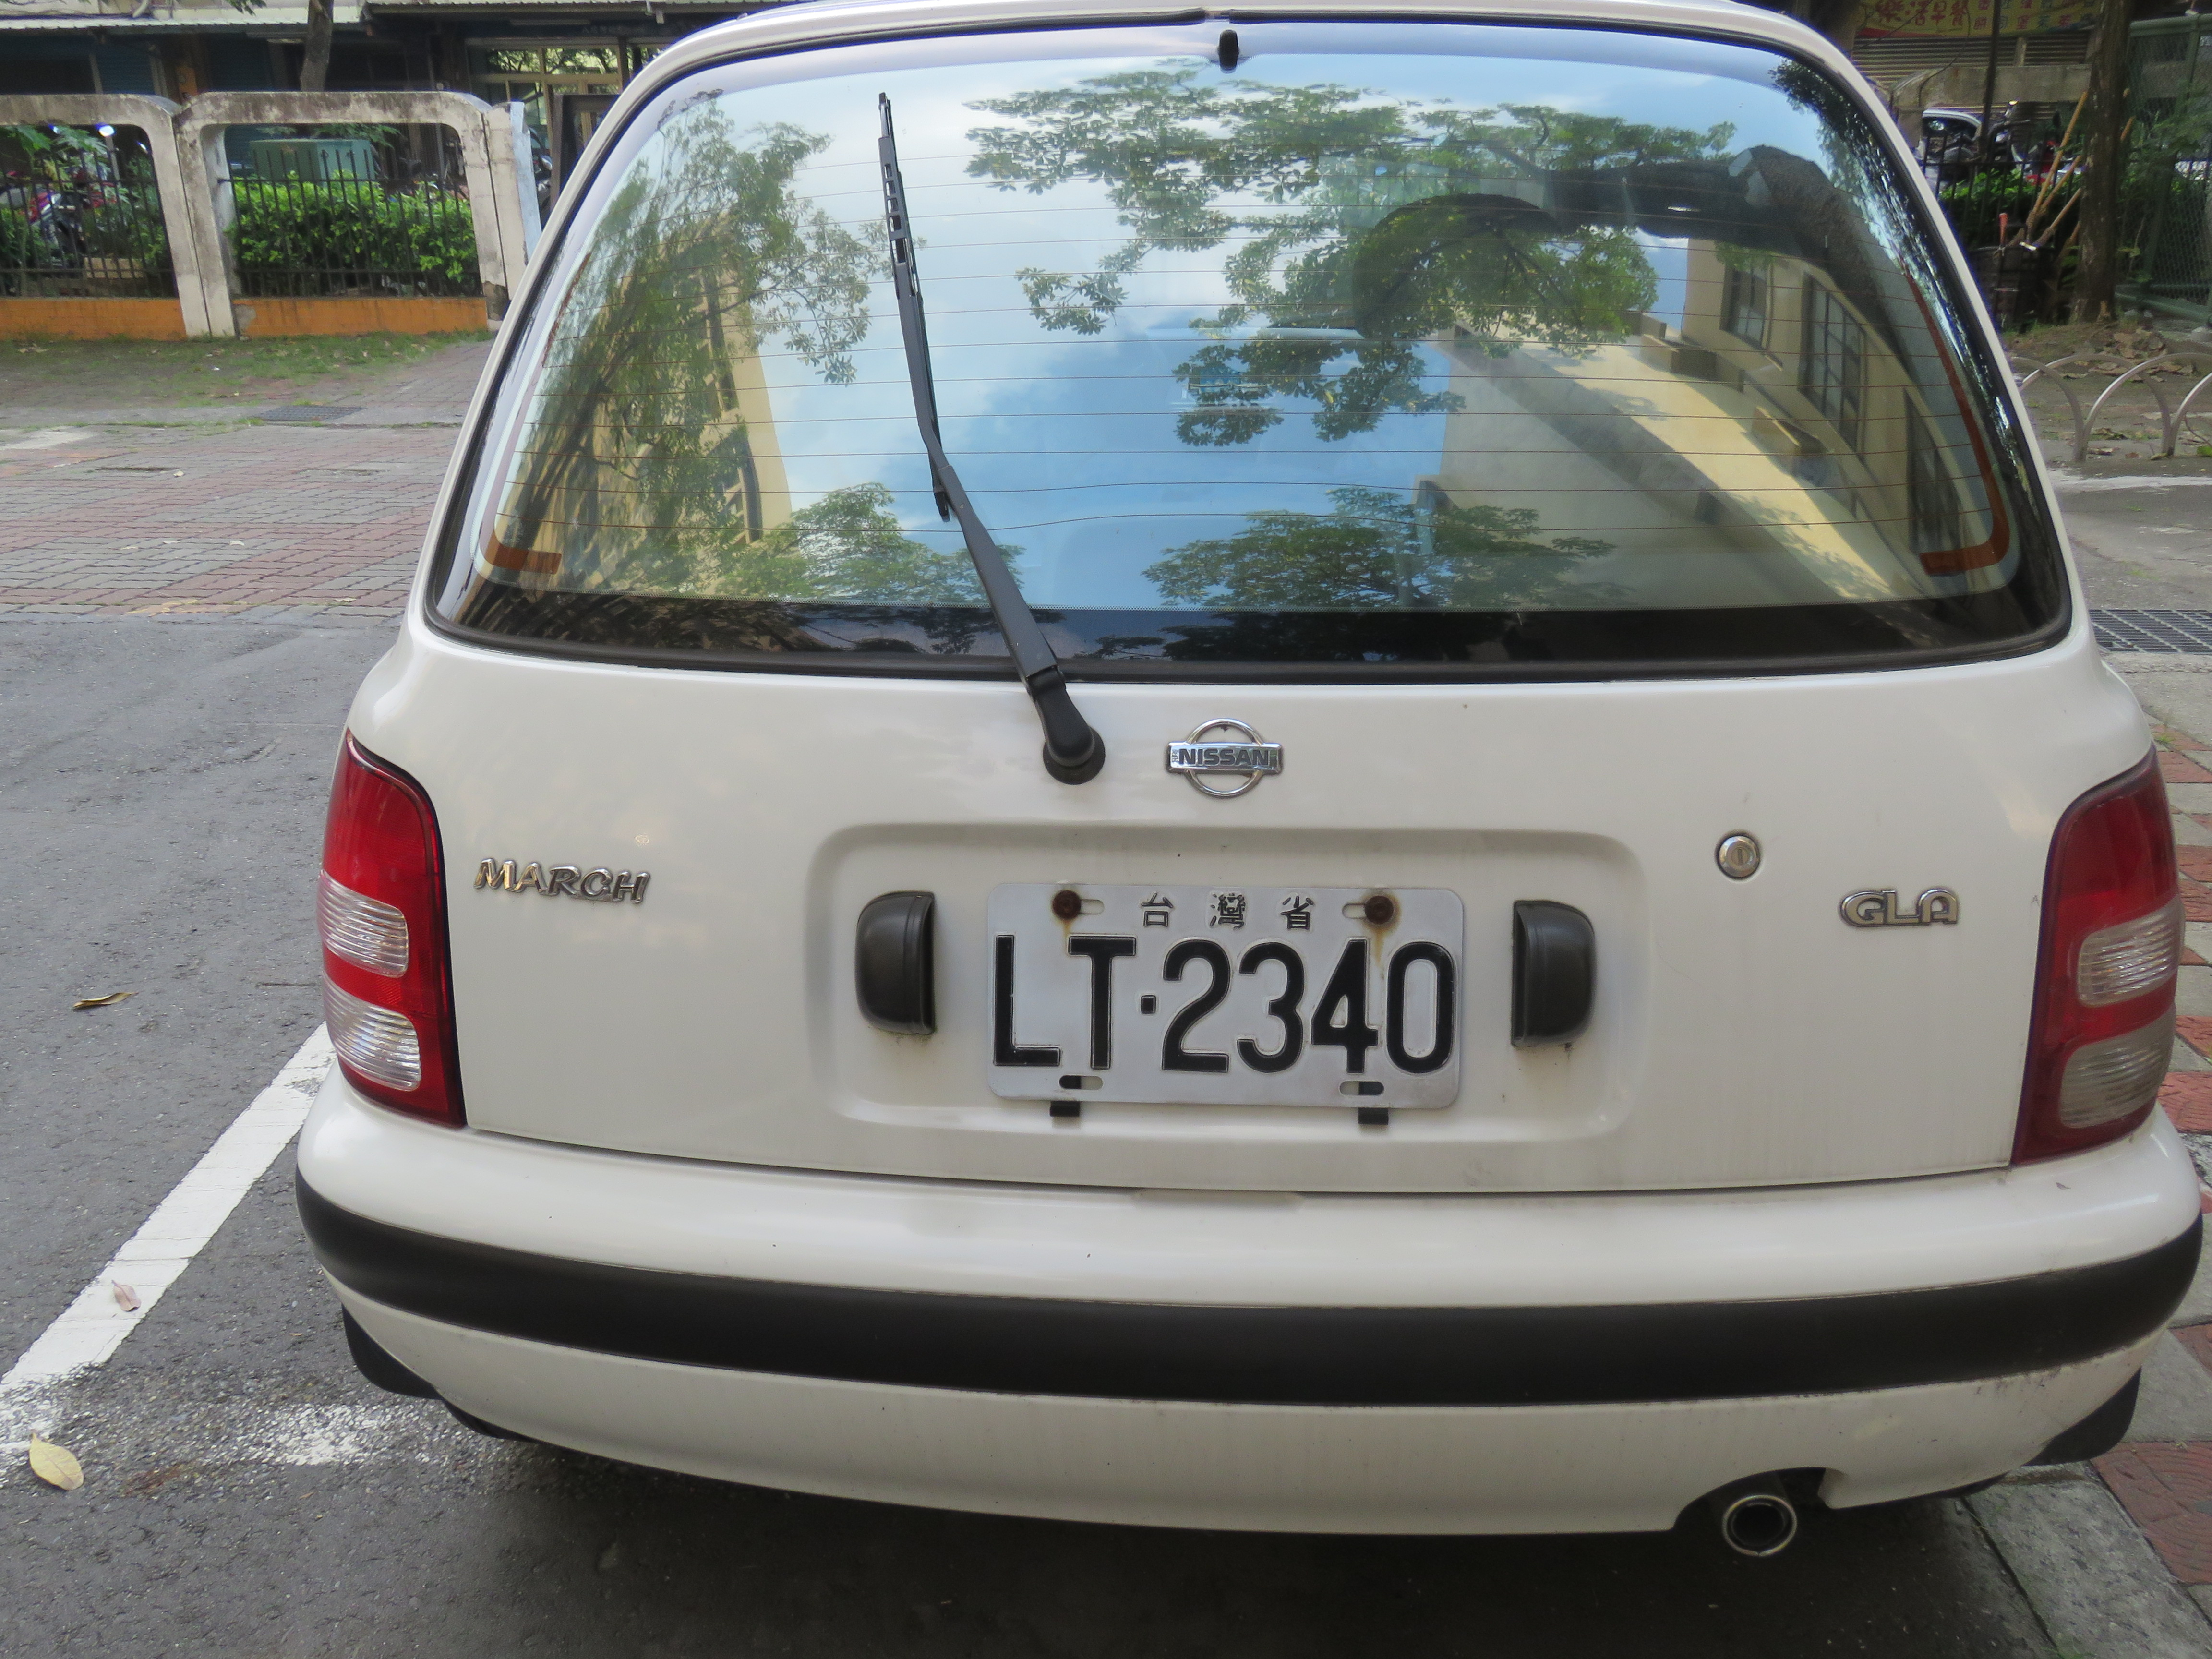car: (289, 0, 2200, 1560)
car_card: (960, 861, 1475, 1133)
